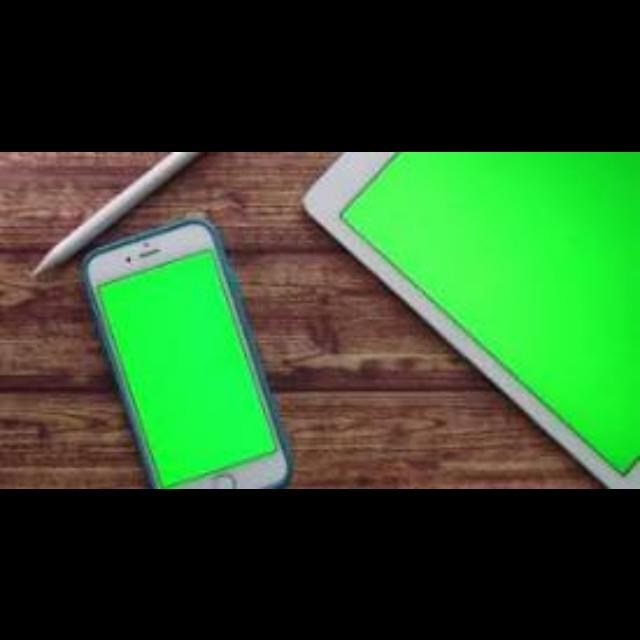Phone: (86, 219, 272, 486)
